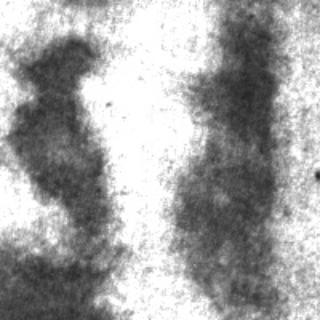patches: (168, 12, 282, 312), (5, 28, 115, 232), (0, 238, 116, 318)
